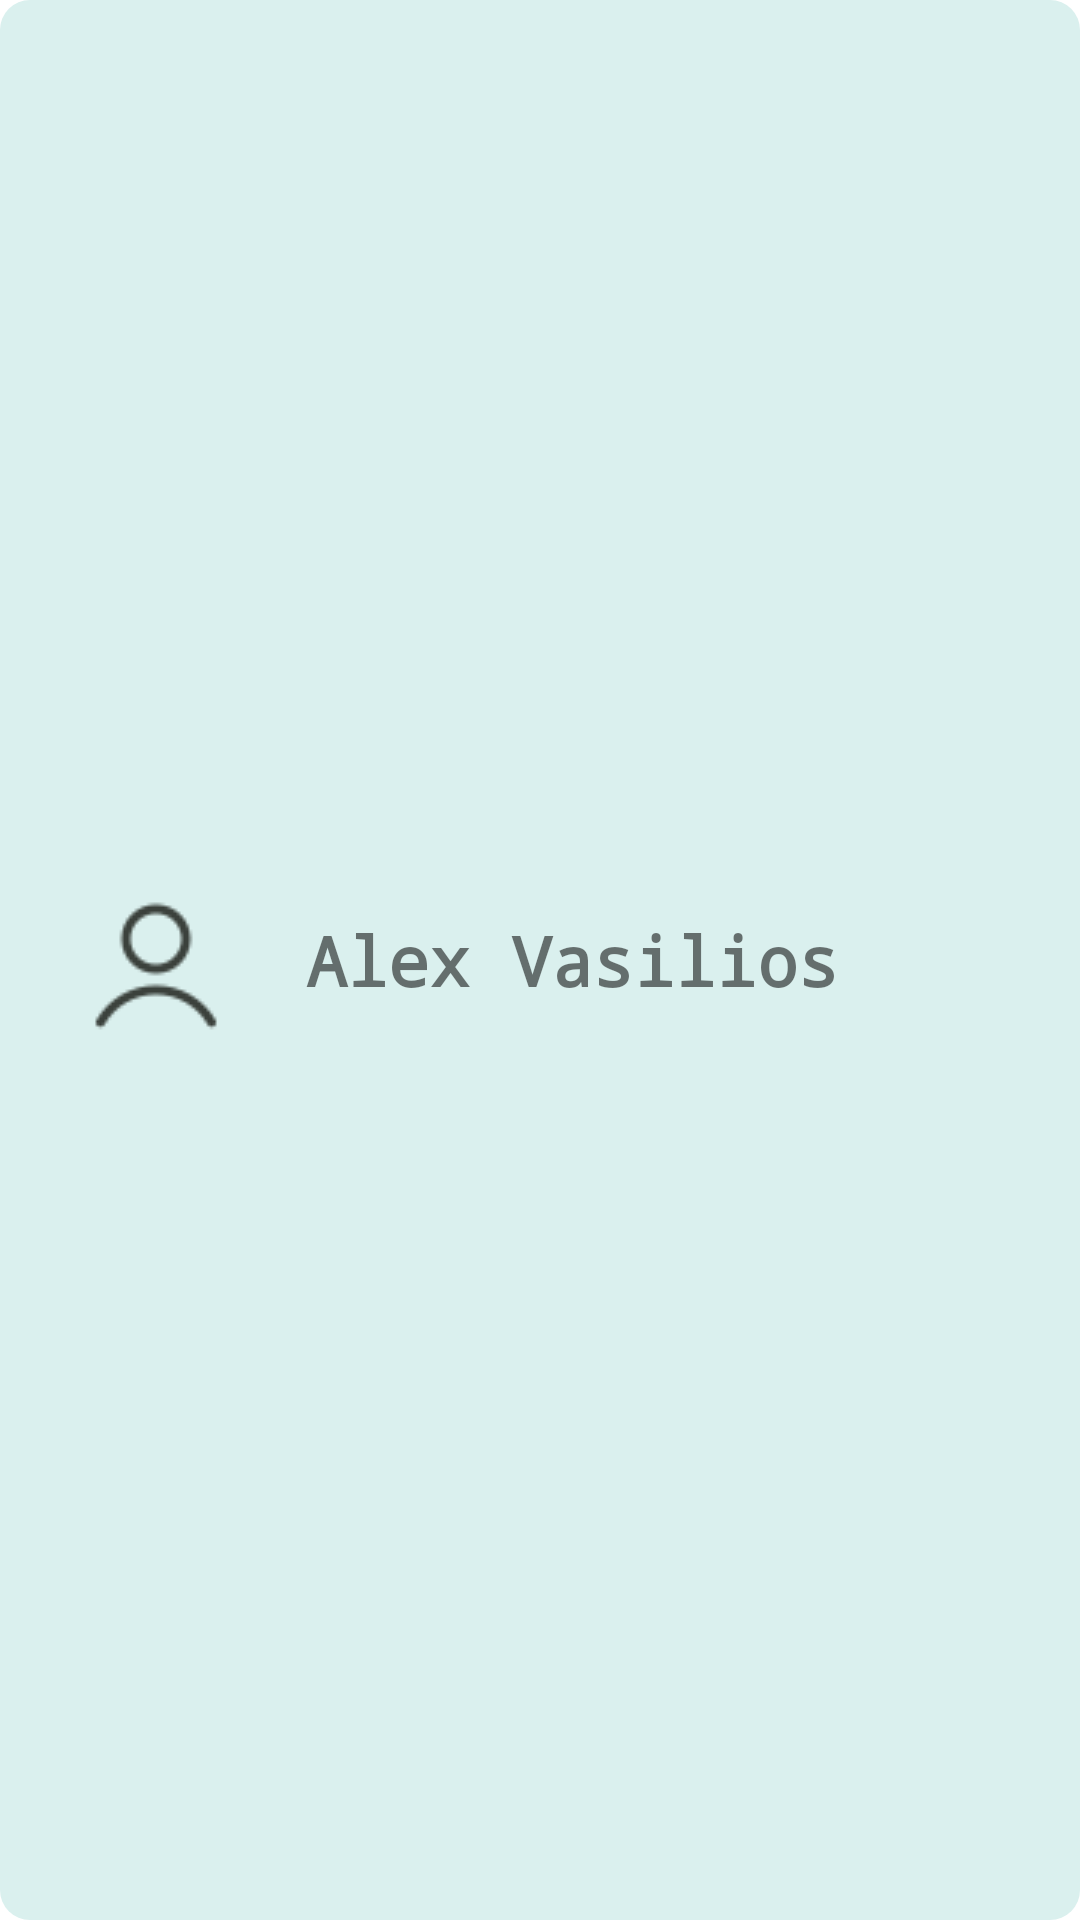

Icons on this 1080px x 1920px Android screen, each with its box as (x1, y1, x2, y2):
user: (95, 902, 217, 1029)
